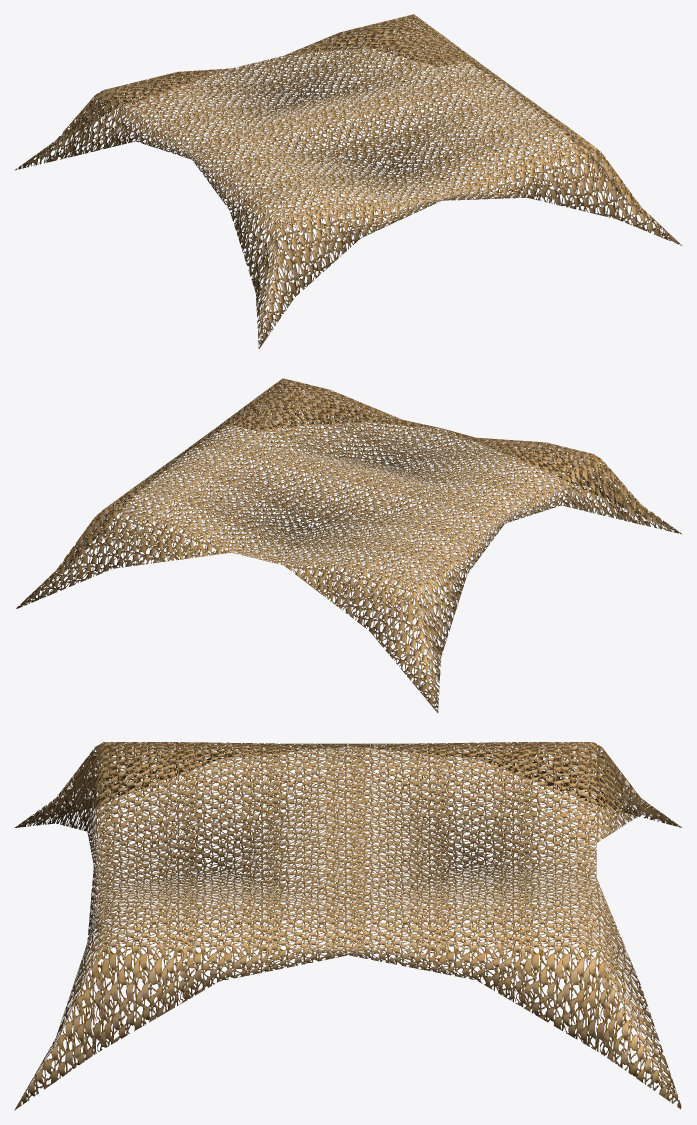
Rendered from M3_SandbagBunker_Hood.glb.
The picture shows the model from 3 angles, top to bottom: view 1: azimuth 30°, elevation 25°; view 2: azimuth 150°, elevation 25°; view 3: azimuth 270°, elevation 25°; orthographic projection. The views are drawn at different scales.
Parts seen in each view (by area): view 1: M3_SANDBAGBUNKER_HOOD; view 2: M3_SANDBAGBUNKER_HOOD; view 3: M3_SANDBAGBUNKER_HOOD.
Boxes of the visible parts, box(x1,y1,x2,y2) form: M3_SANDBAGBUNKER_HOOD: box(15, 14, 681, 348); M3_SANDBAGBUNKER_HOOD: box(16, 378, 681, 712); M3_SANDBAGBUNKER_HOOD: box(14, 742, 682, 1110).
Bounding box in the file's own units: 8 × 1.76 × 8.
Materials: 1 (1 with a texture image).
